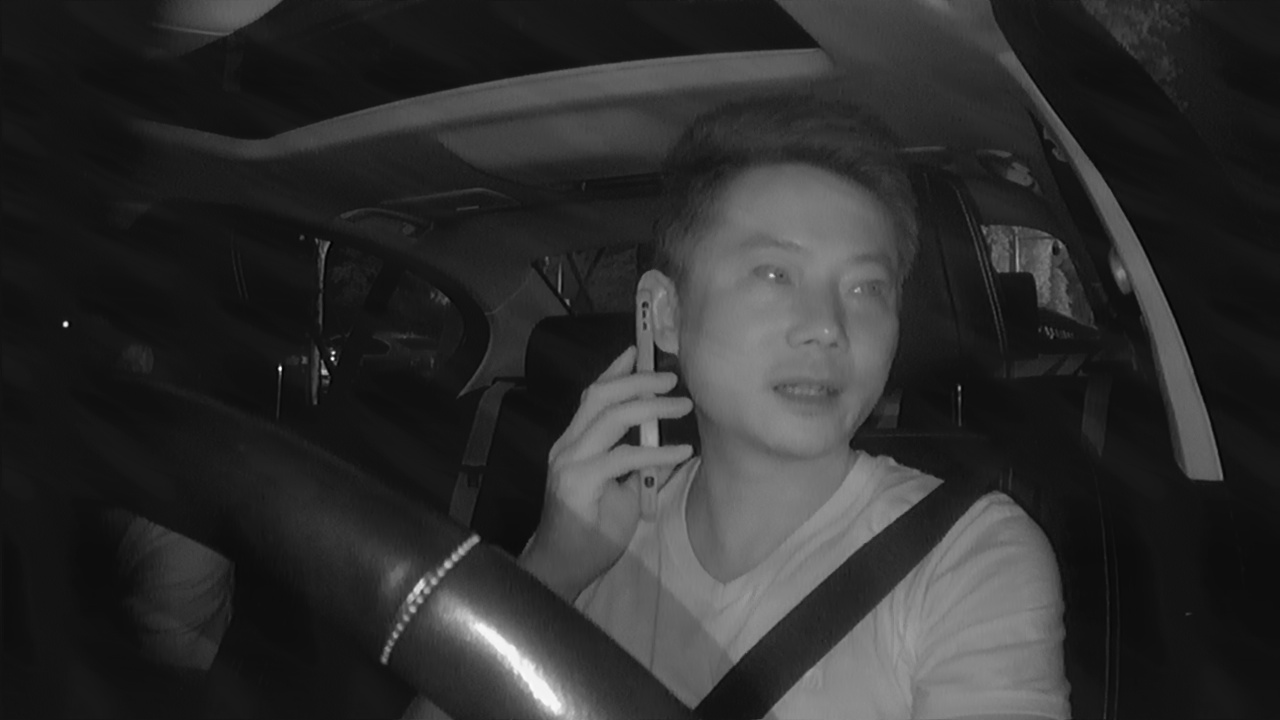hand: (543, 351, 682, 549)
